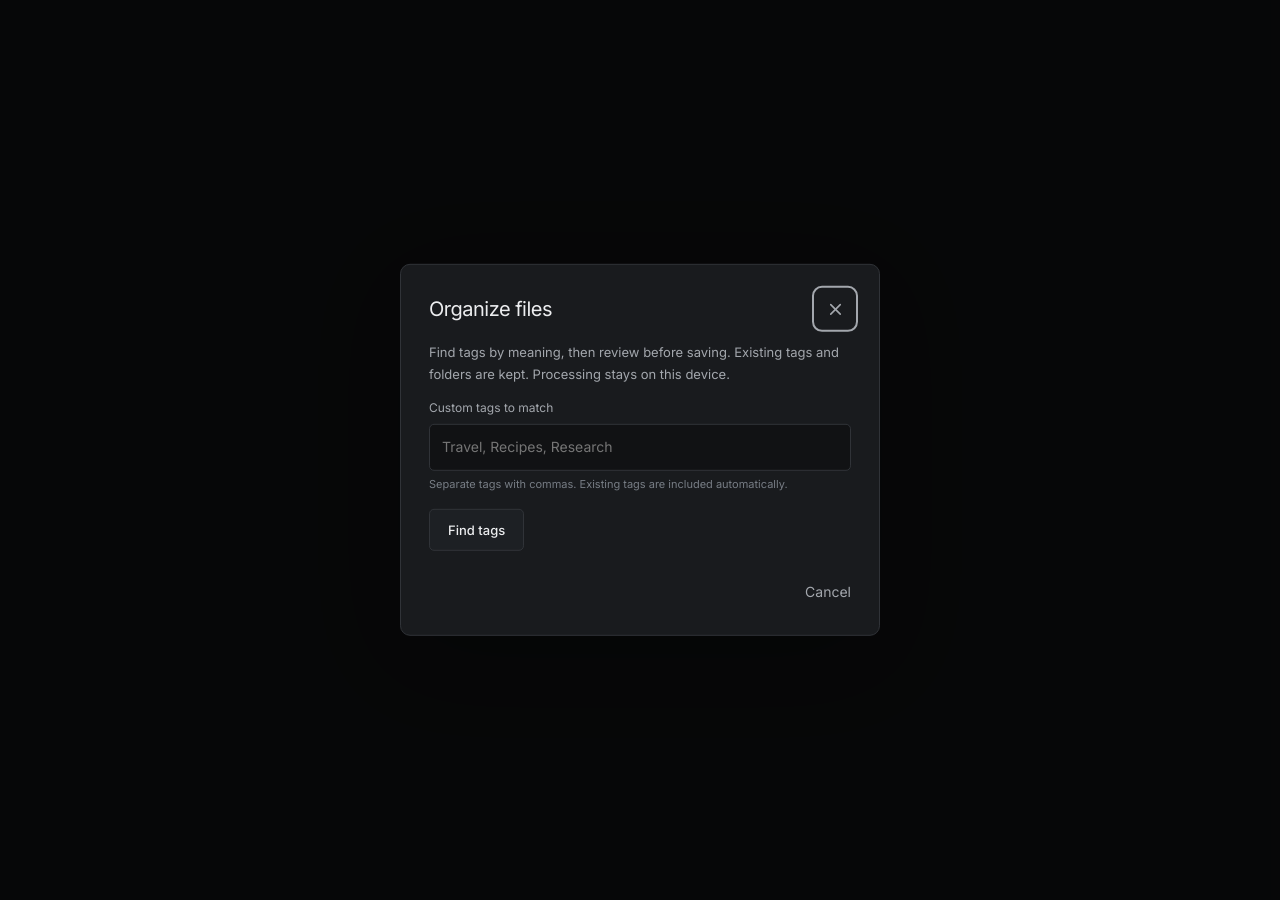
Scenario: requires a selected file and a nonempty reviewed tag
Click the button "Find tags" at (477, 530), box top-left (429, 509), bottom-right (524, 551)
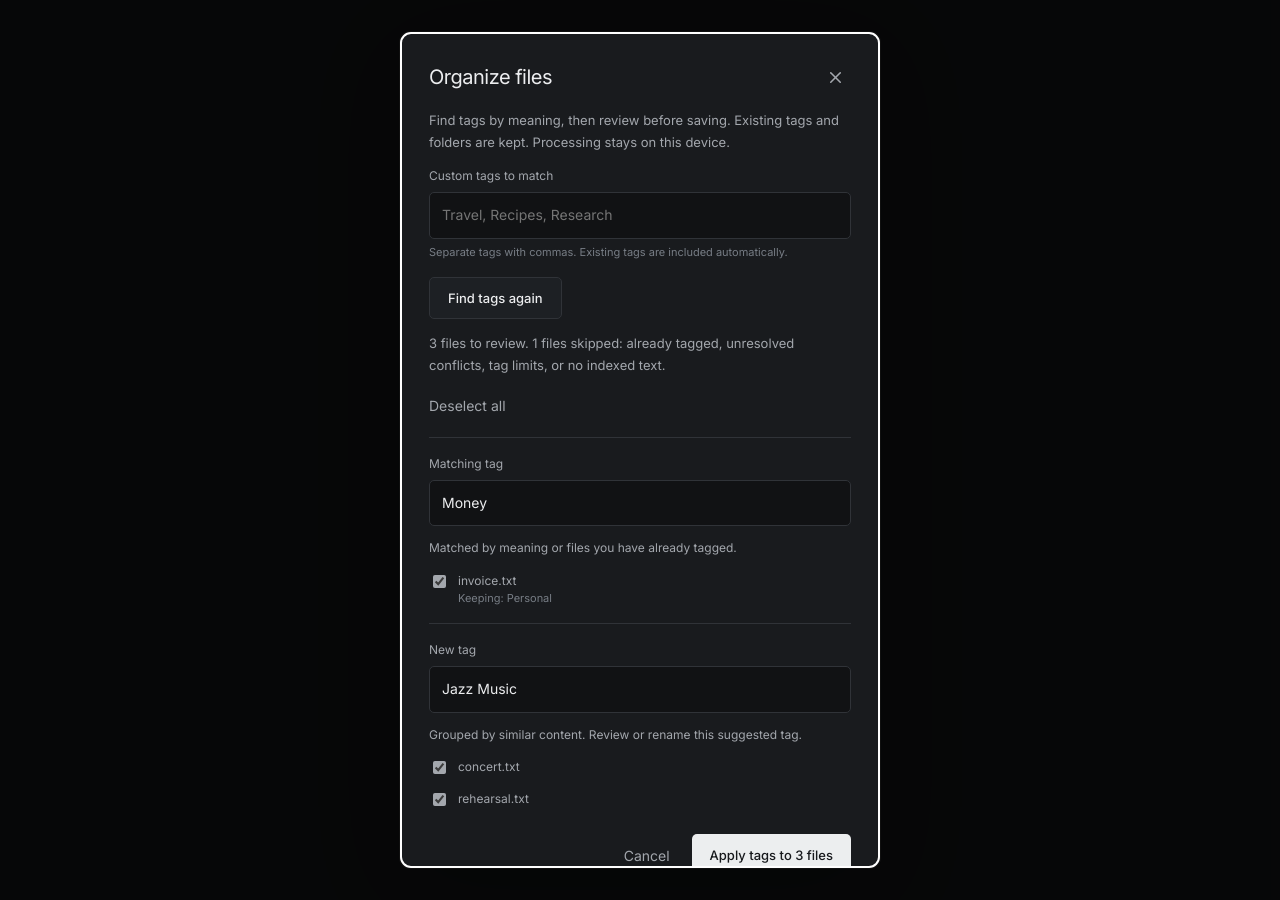
Check: the field named "Tag for Money" is shown, box top-left (429, 480), bottom-right (851, 526)
Click the button "Deselect all" at (467, 405), box top-left (429, 390), bottom-right (506, 420)
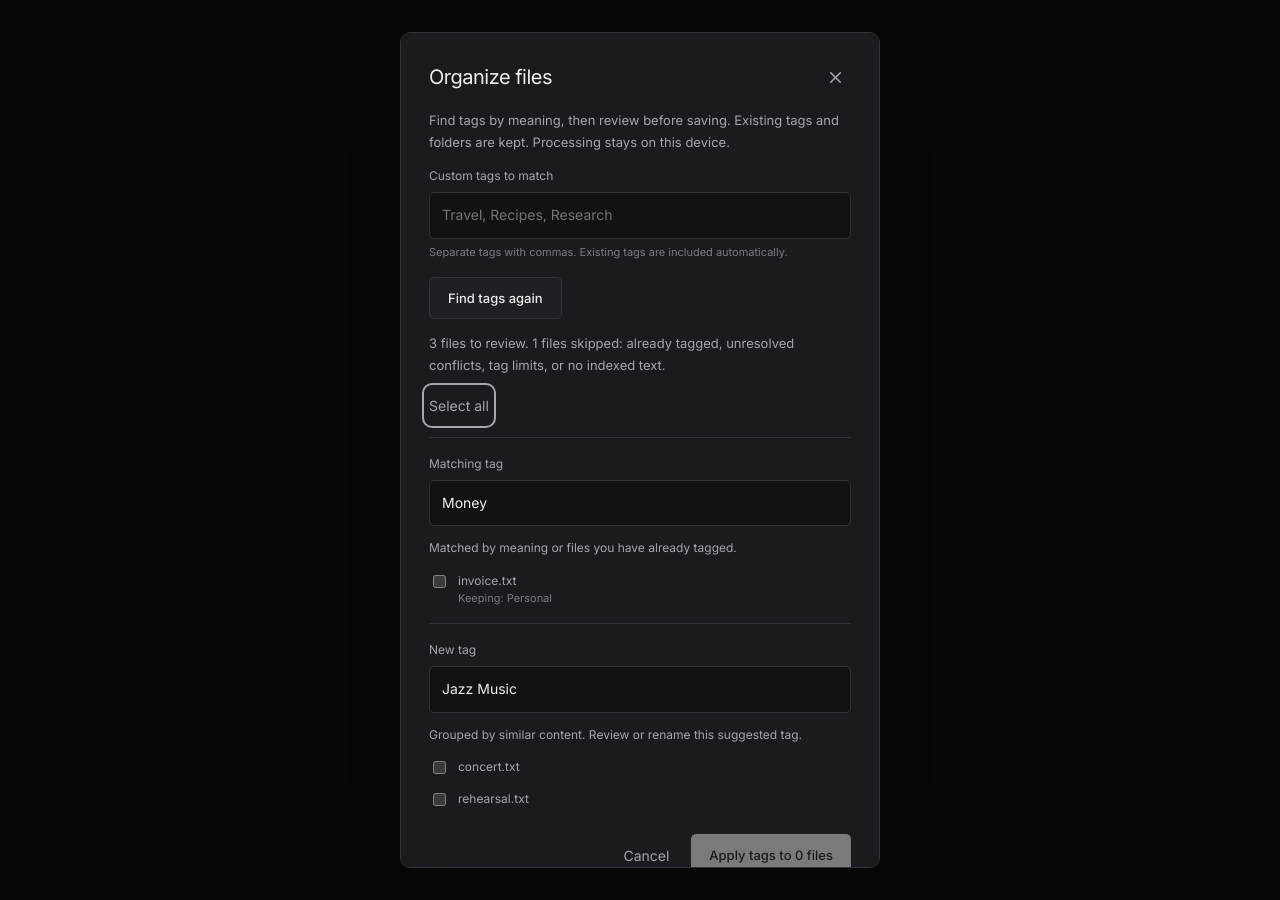
Check: the button "Apply tags to 0 files" is disabled, box top-left (691, 834), bottom-right (851, 868)
Click the button "Select all" at (459, 405), box top-left (429, 390), bottom-right (489, 420)
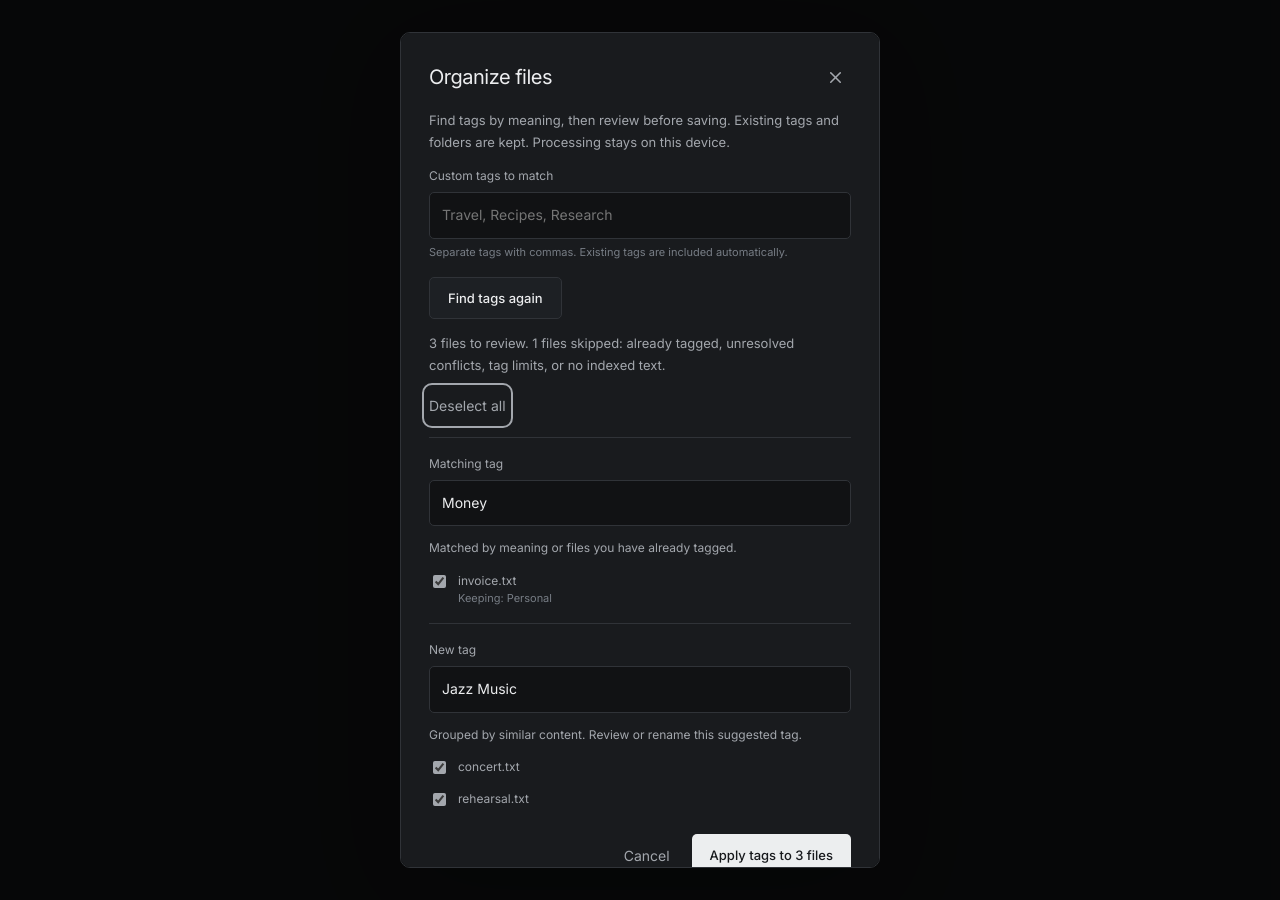
Clear the field named "Tag for Money" at (640, 503), box top-left (429, 480), bottom-right (851, 526)
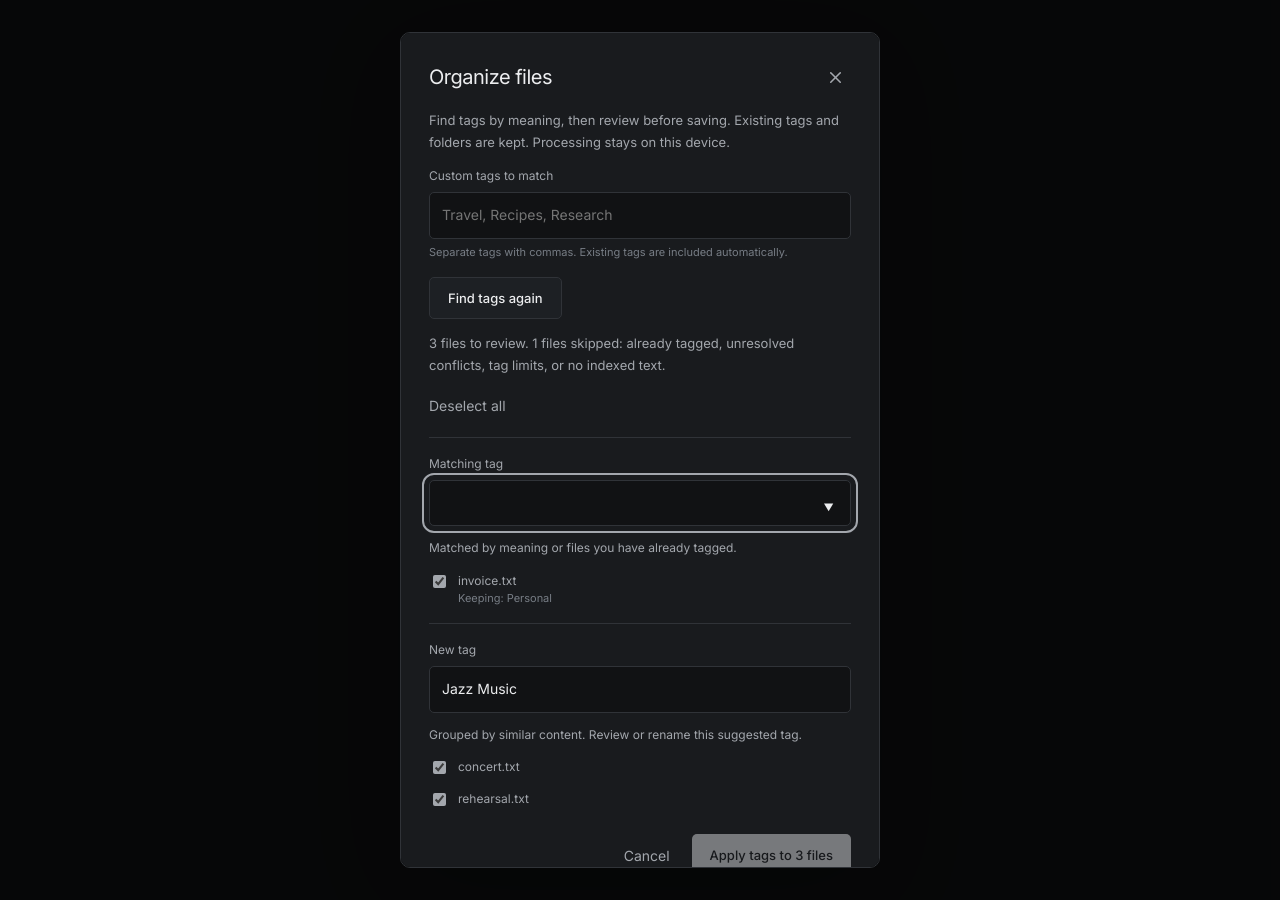
Check: the button "Apply tags to 3 files" is disabled, box top-left (692, 834), bottom-right (851, 868)
